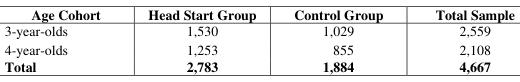table: (3, 4, 513, 75)
table column: (123, 4, 274, 75), (274, 4, 408, 75), (3, 4, 123, 75), (408, 4, 513, 75)
table column header: (3, 4, 513, 21)
table row: (3, 21, 513, 39), (3, 39, 513, 57), (3, 57, 513, 75), (3, 4, 513, 21)
